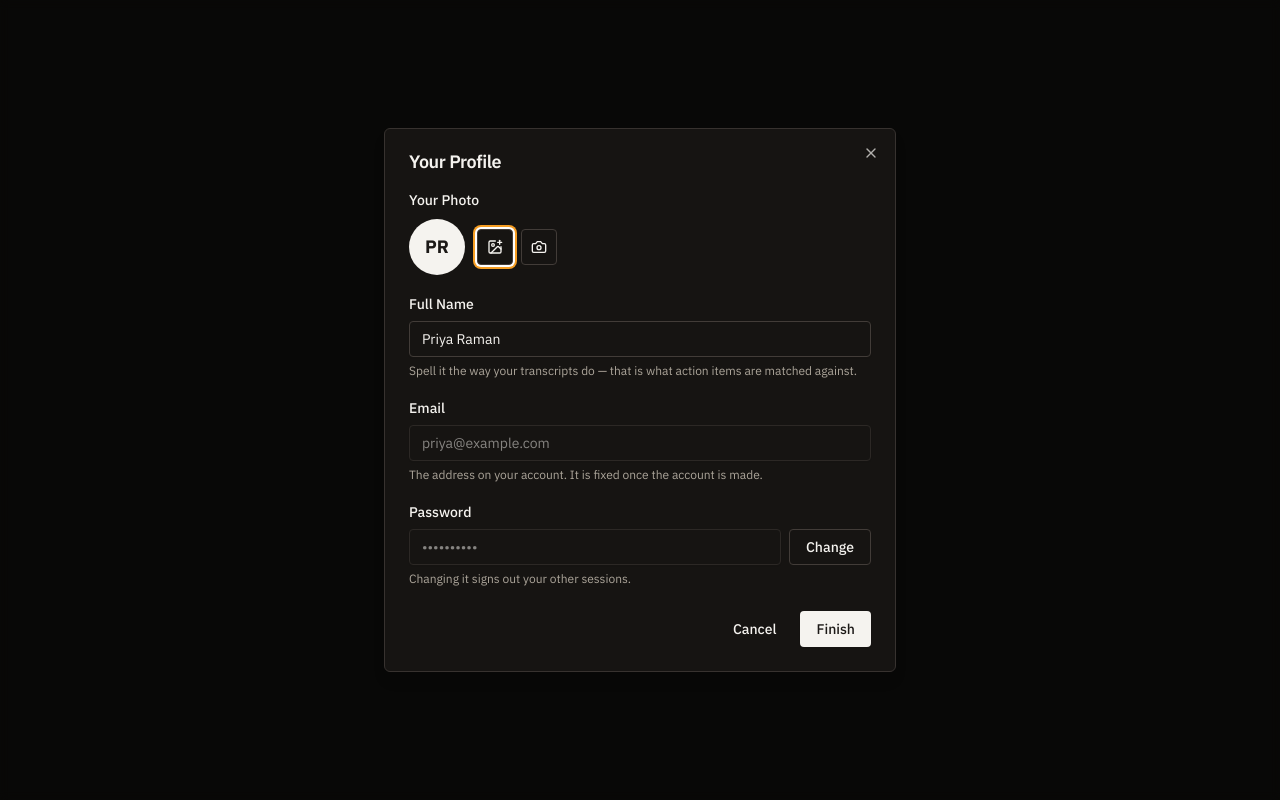
Test: the password › opens the change dialog under a provider
Click the button with aria-label "Change password". click: (830, 547)
box: x1=789 y1=529 x2=871 y2=565
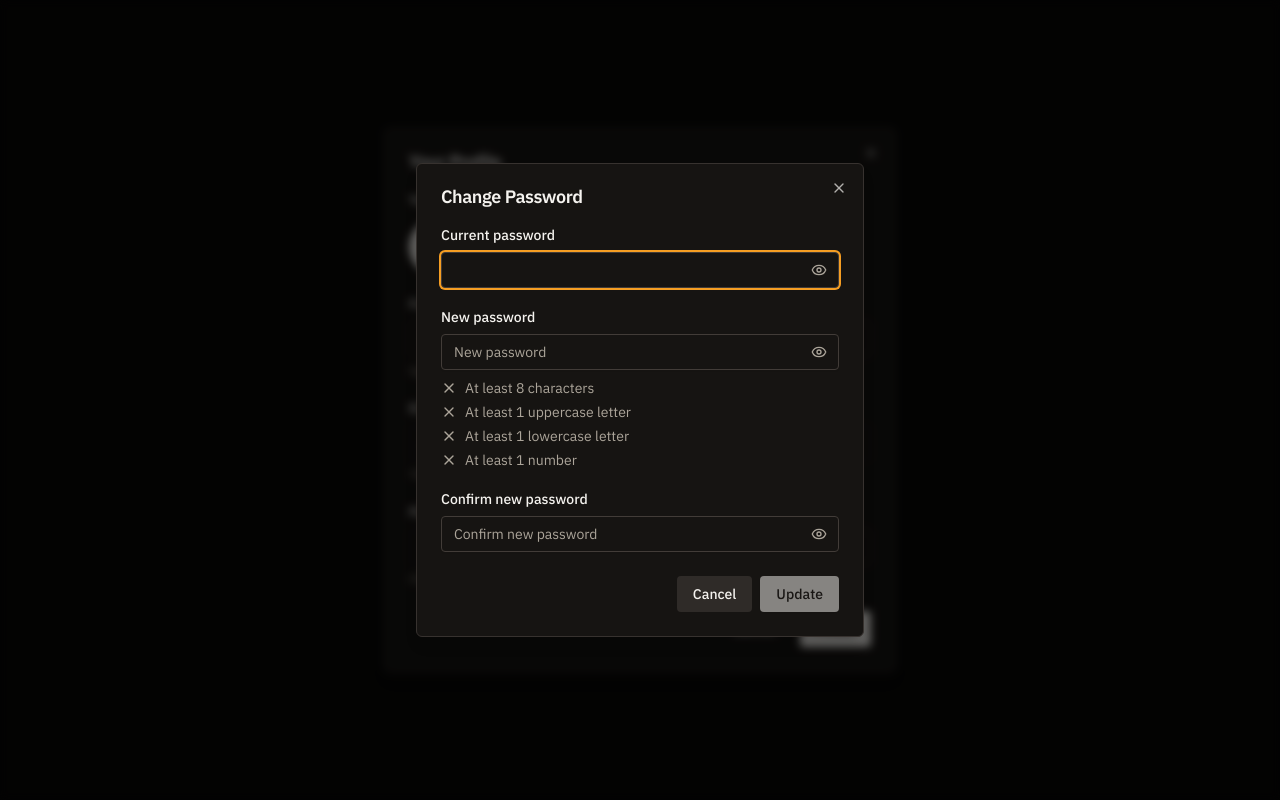
Now the heading "Change Password" is shown, box x1=441 y1=185 x2=583 y2=208
